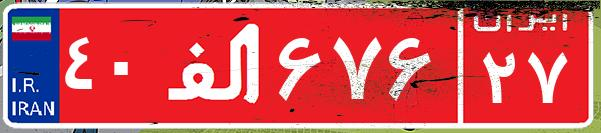0: (110, 28, 158, 105)
2: (475, 38, 525, 113)
4: (57, 26, 110, 107)
6: (385, 28, 445, 110), (273, 28, 330, 110)
7: (330, 28, 385, 110), (525, 38, 570, 115)
الف: (158, 15, 273, 115)
